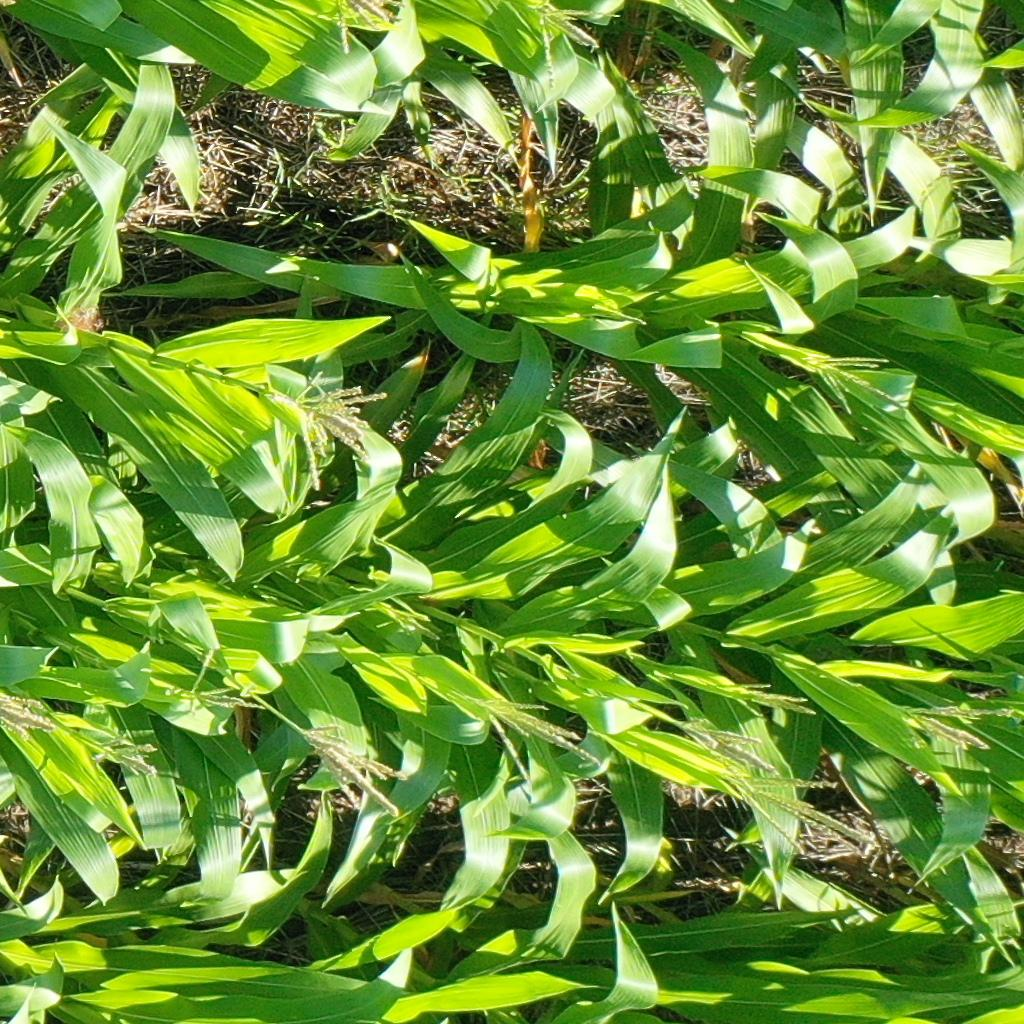Tassel: (731, 767, 875, 862), (282, 372, 387, 497), (478, 691, 604, 786), (301, 718, 412, 822), (534, 1, 620, 93), (807, 349, 906, 422), (169, 648, 266, 719), (678, 713, 777, 779), (909, 703, 1024, 750), (335, 1, 409, 56), (731, 678, 819, 722), (93, 730, 161, 782), (1, 693, 59, 742)
